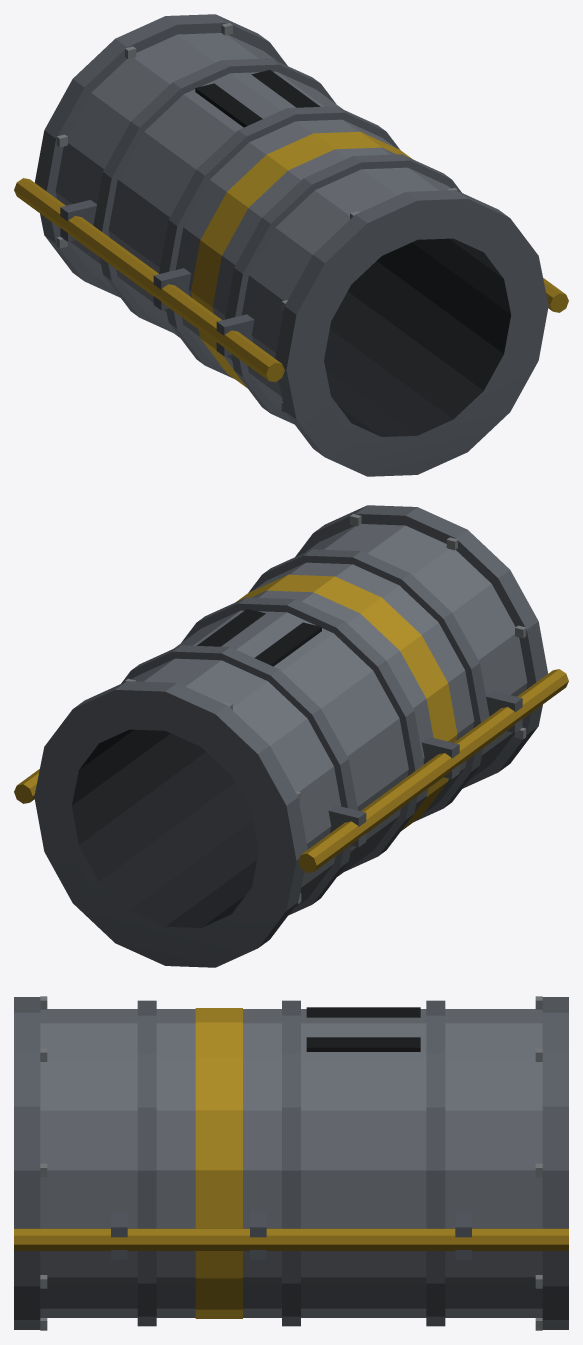
The model's file is pipe.coolant.grey.glb.
3 views of the same model, one above another, from view 1: azimuth 30°, elevation 25°; view 2: azimuth 150°, elevation 25°; view 3: azimuth 270°, elevation 25° (orthographic). The views are drawn at different scales.
Parts seen in each view (by area): view 1: pipe_coolant_grey; view 2: pipe_coolant_grey; view 3: pipe_coolant_grey.
Part boxes in pixels (x1,y1,x2,y2): pipe_coolant_grey: (14,14,568,476); pipe_coolant_grey: (14,505,568,967); pipe_coolant_grey: (14,996,568,1330).
Size of what is drawn, in the model's own units: 1.62 by 1.4 by 2.33.
